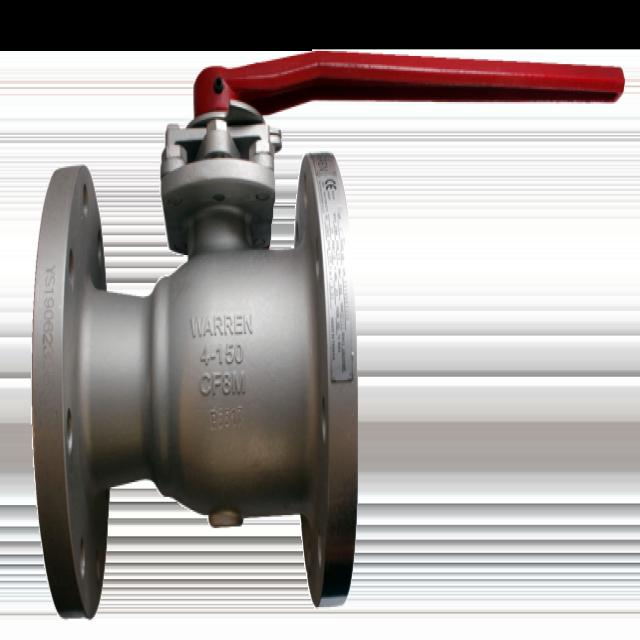Lever Handle Valve Threaded: (184, 39, 630, 132)
